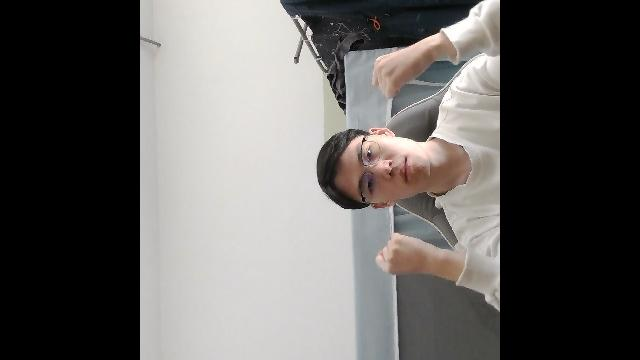ten: (371, 39, 434, 103), (373, 228, 433, 278)
